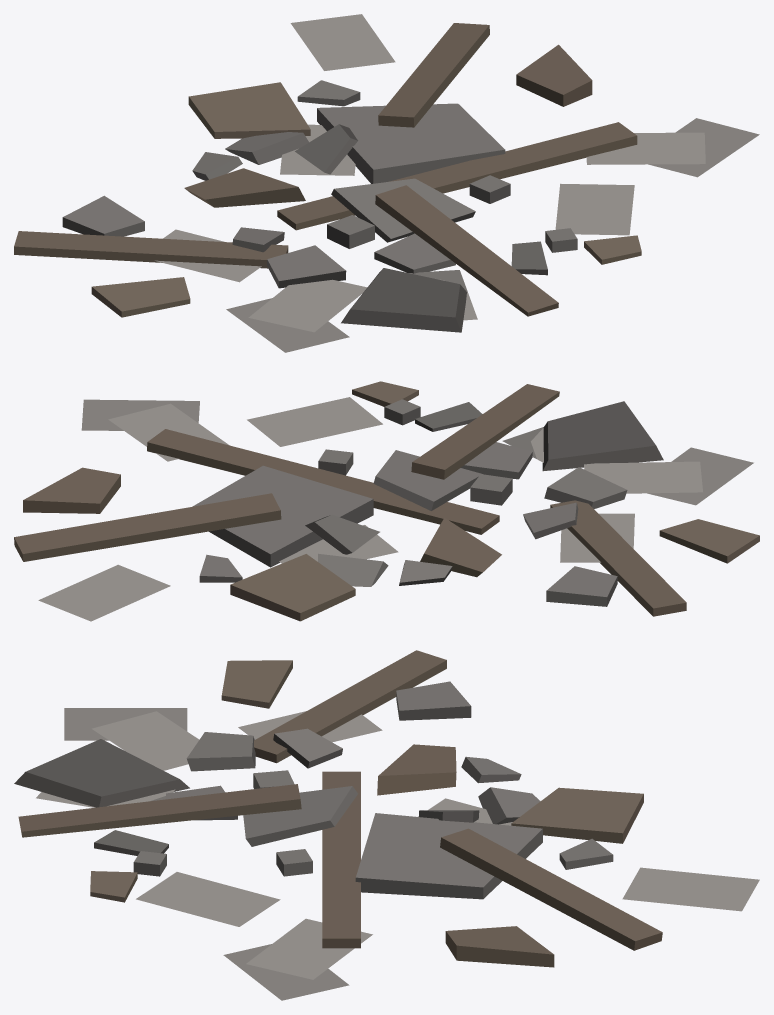
File: AI_Env_GroundDirt_01.fbx
The picture shows the model from 3 angles, top to bottom: view 1: azimuth 30°, elevation 25°; view 2: azimuth 150°, elevation 25°; view 3: azimuth 270°, elevation 25°; orthographic projection. The views are drawn at different scales.
Visible parts, largest first — view 1: AI_Env_GroundDirt_01; view 2: AI_Env_GroundDirt_01; view 3: AI_Env_GroundDirt_01.
Boxes of the visible parts, box(x1,y1,x2,y2) form: AI_Env_GroundDirt_01: box(14, 14, 759, 352); AI_Env_GroundDirt_01: box(14, 381, 759, 621); AI_Env_GroundDirt_01: box(14, 650, 759, 1000).
Bounding box in the file's own units: 3.59 × 0.1444 × 3.29.
